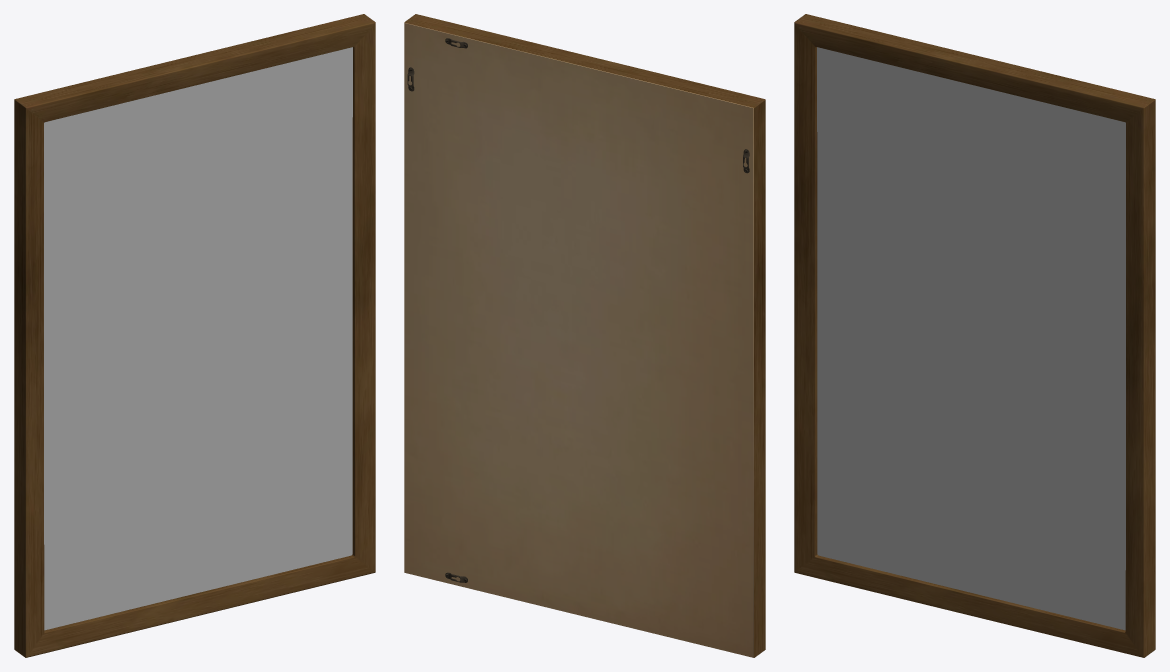
Rendered from B07RRR2NDK.glb.
3 renders of one model, left to right at view 1: azimuth 30°, elevation 25°; view 2: azimuth 150°, elevation 25°; view 3: azimuth 330°, elevation 25°, orthographic.
Visible parts, largest first — view 1: RootNode; view 2: RootNode; view 3: RootNode.
Part boxes in pixels (x1,y1,x2,y2): RootNode: [14, 14, 375, 657]; RootNode: [404, 14, 765, 657]; RootNode: [794, 14, 1155, 657].
Size of the model in its own units: 0.6091 by 0.9147 by 0.0402.
Materials: 1 (1 with a texture image).
